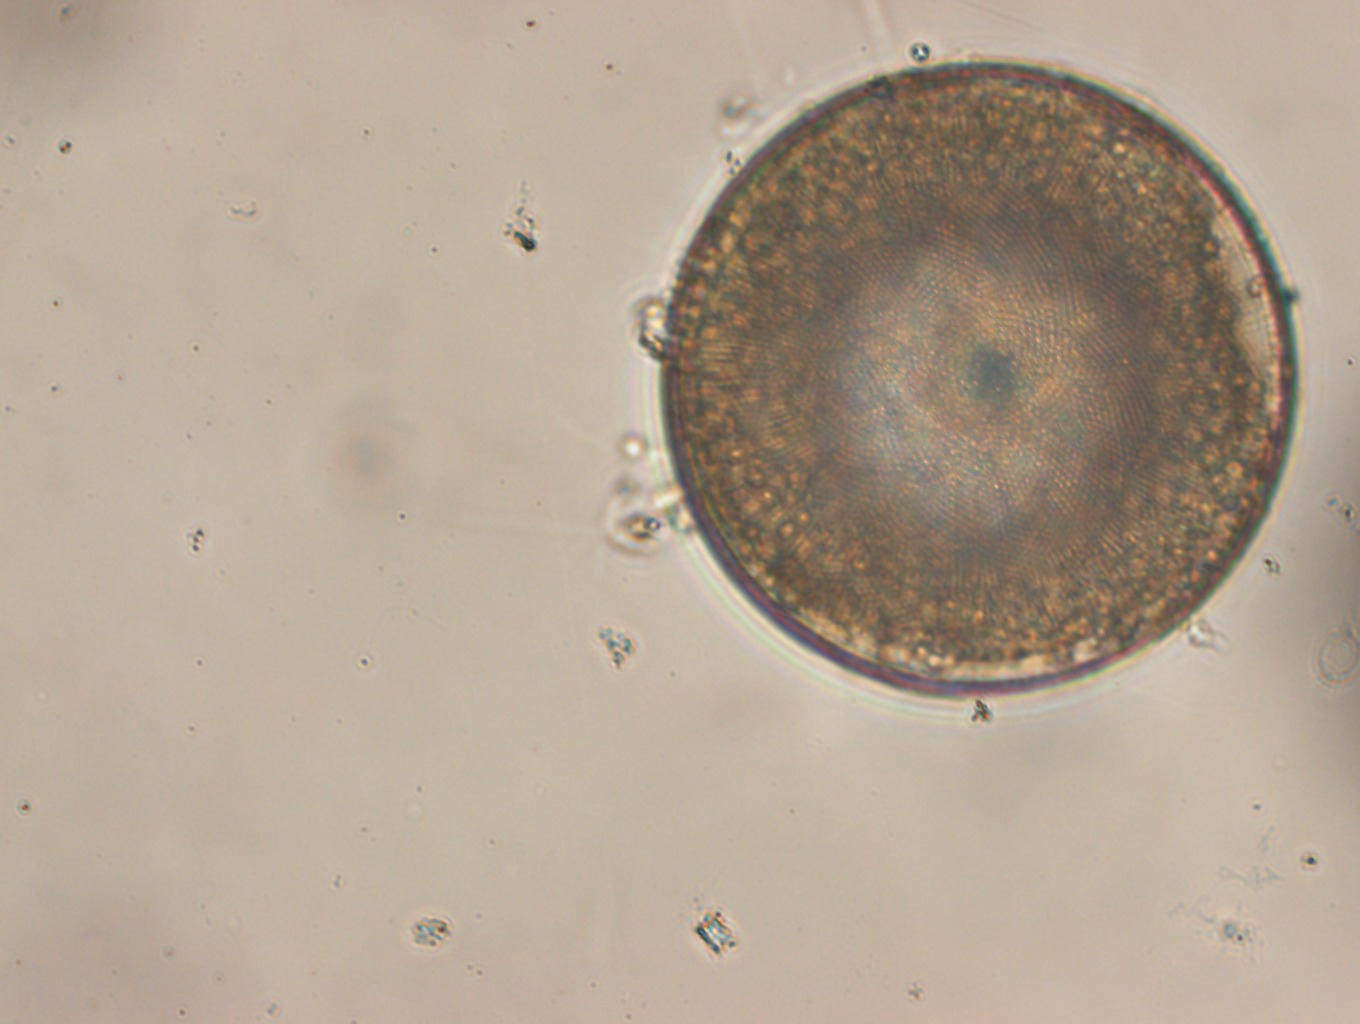coscinodiscus: (656, 57, 1307, 707)
